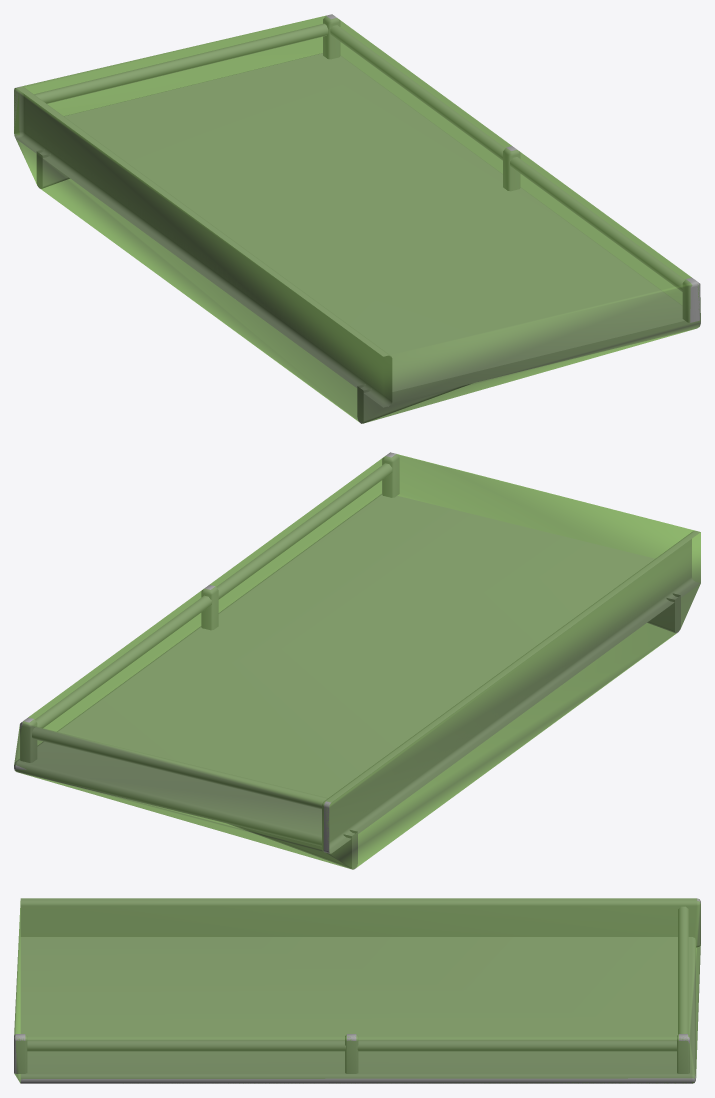
File: M_md_MetalShelve_end_02.fbx
3 views of the same model, one above another, from view 1: azimuth 30°, elevation 25°; view 2: azimuth 150°, elevation 25°; view 3: azimuth 270°, elevation 25° (orthographic). The views are drawn at different scales.
Visible parts, largest first — view 1: M_md_MetalShelve_end_02_col_01, M_md_MetalShelve_end_02_LOD0; view 2: M_md_MetalShelve_end_02_col_01, M_md_MetalShelve_end_02_LOD0; view 3: M_md_MetalShelve_end_02_LOD0, M_md_MetalShelve_end_02_col_01.
Part boxes in pixels (<box>): M_md_MetalShelve_end_02_col_01: <box>14,15,700,423</box>; M_md_MetalShelve_end_02_LOD0: <box>14,14,700,423</box>; M_md_MetalShelve_end_02_col_01: <box>14,454,700,869</box>; M_md_MetalShelve_end_02_LOD0: <box>14,452,700,869</box>; M_md_MetalShelve_end_02_LOD0: <box>14,898,700,1083</box>; M_md_MetalShelve_end_02_col_01: <box>14,898,700,1083</box>.
Size of what is drawn, in the model's own units: 50 by 12.73 by 102.
